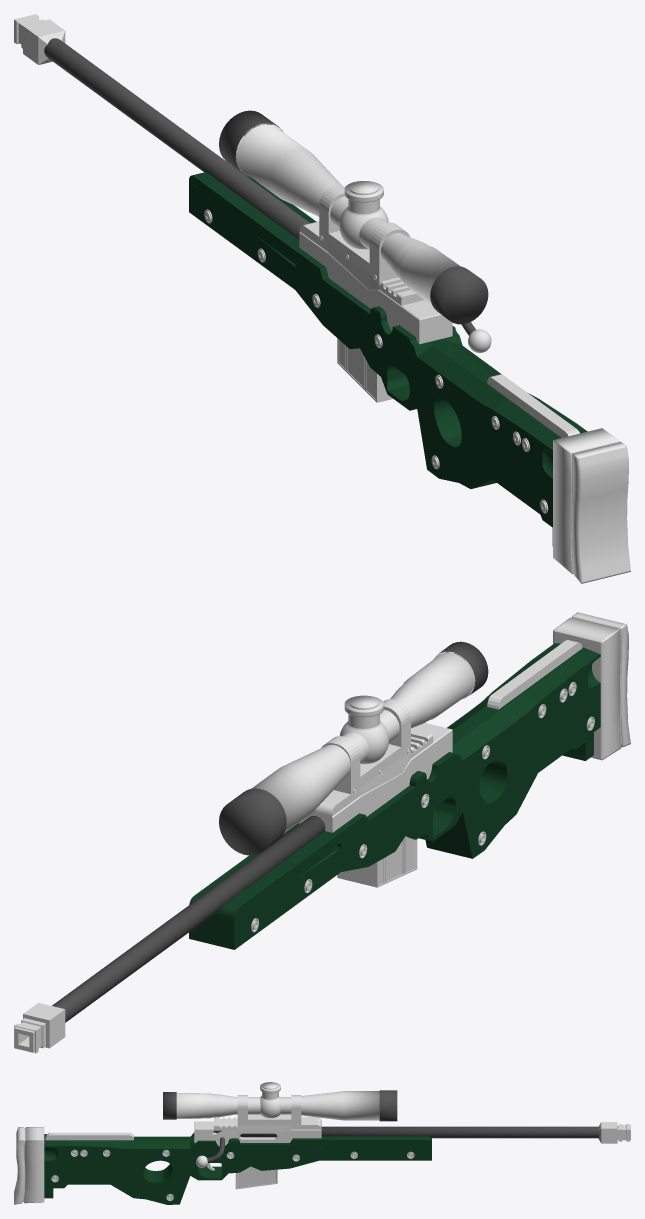
File: awp.fbx
The picture shows the model from 3 angles, top to bottom: view 1: azimuth 30°, elevation 25°; view 2: azimuth 150°, elevation 25°; view 3: azimuth 270°, elevation 25°; orthographic projection. The views are drawn at different scales.
Parts seen in each view (by area): view 1: Cylinder.002; view 2: Cylinder.002; view 3: Cylinder.002.
Boxes of the visible parts, box(x1,y1,x2,y2) form: Cylinder.002: box(14, 14, 630, 583); Cylinder.002: box(14, 612, 630, 1053); Cylinder.002: box(14, 1082, 630, 1204).
Bounding box in the file's own units: 42.23 × 99.52 × 490.
